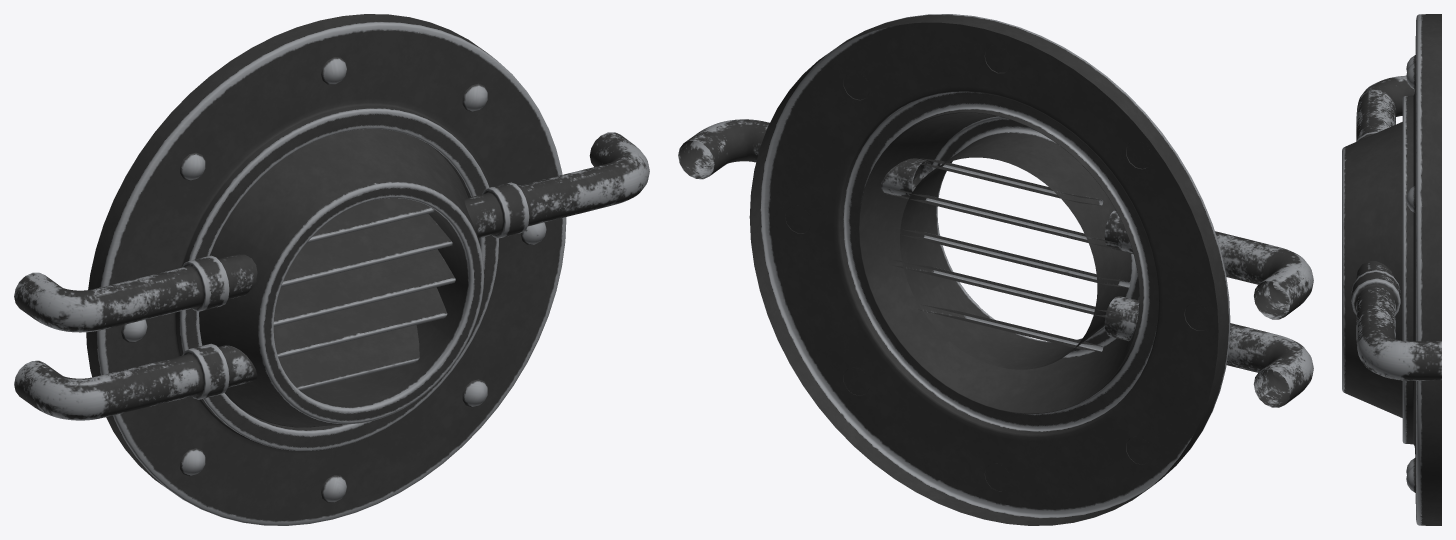
Rendered from air vent.fbx.
The picture shows the model from 3 angles, left to right: view 1: azimuth 30°, elevation 25°; view 2: azimuth 150°, elevation 25°; view 3: azimuth 270°, elevation 25°; orthographic projection. The views are drawn at different scales.
Parts seen in each view (by area): view 1: air vent; view 2: air vent; view 3: air vent.
Part boxes in pixels (bbox=[...]): air vent: bbox=[14, 14, 649, 525]; air vent: bbox=[678, 14, 1313, 525]; air vent: bbox=[1342, 14, 1441, 525].
Size of the model in its own units: 254 by 195 by 37.92.
Materials: 1 (1 with a texture image).
